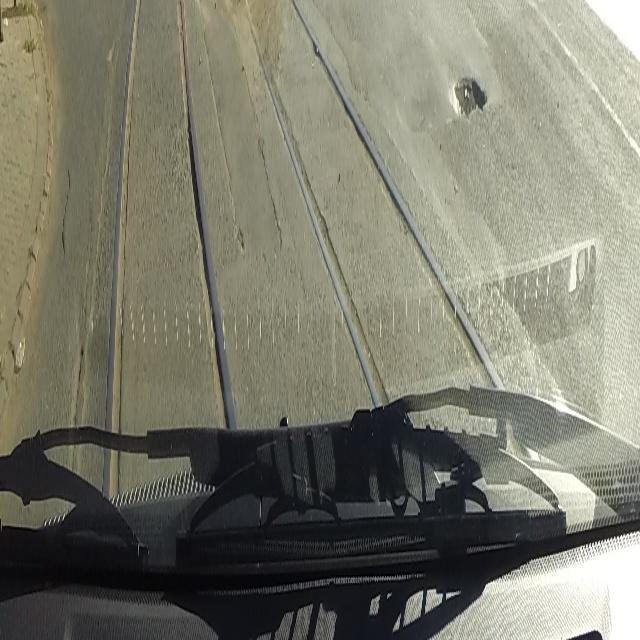pothole: (447, 69, 489, 125)
